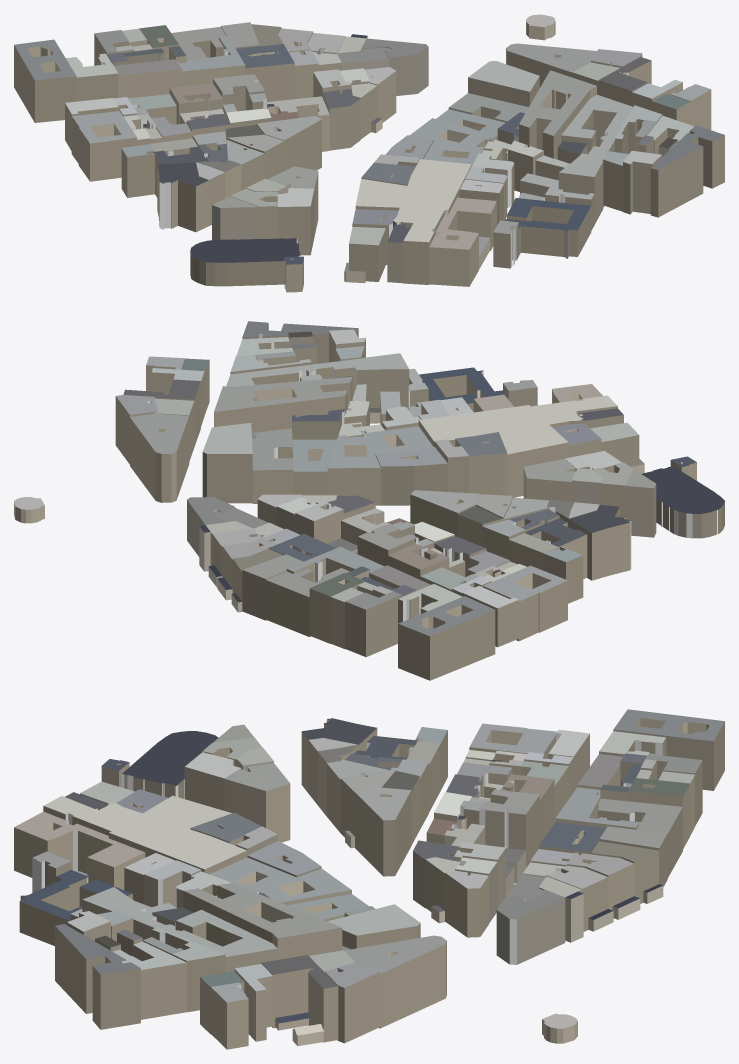
3 renders of one model, top to bottom at view 1: azimuth 30°, elevation 25°; view 2: azimuth 150°, elevation 25°; view 3: azimuth 270°, elevation 25°, orthographic. The views are drawn at different scales.
Parts seen in each view (by area): view 1: tuile; view 2: tuile; view 3: tuile.
Part boxes in pixels (x1,y1,x2,y2): tuile: [14, 14, 724, 292]; tuile: [14, 321, 724, 680]; tuile: [14, 709, 724, 1049].
Size of the model in its own units: 283 by 30.69 by 281.
